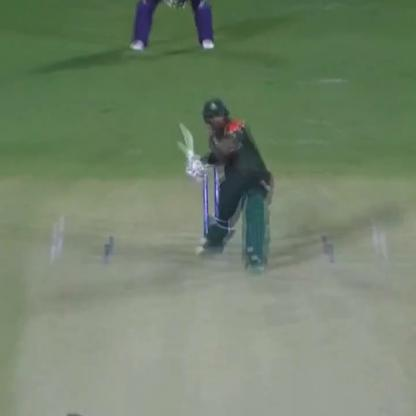ball: (194, 235, 212, 248), (191, 247, 207, 259)
bat: (168, 118, 209, 180)
pitch: (6, 194, 416, 416)
